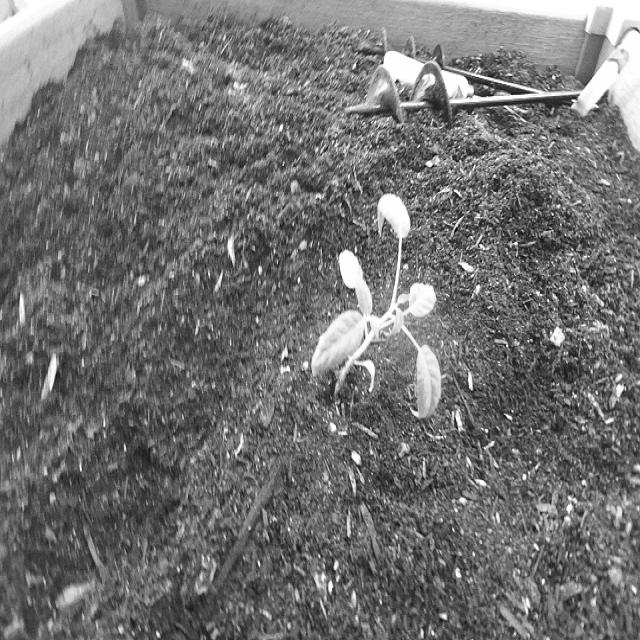Healthy: (298, 172, 461, 450)
